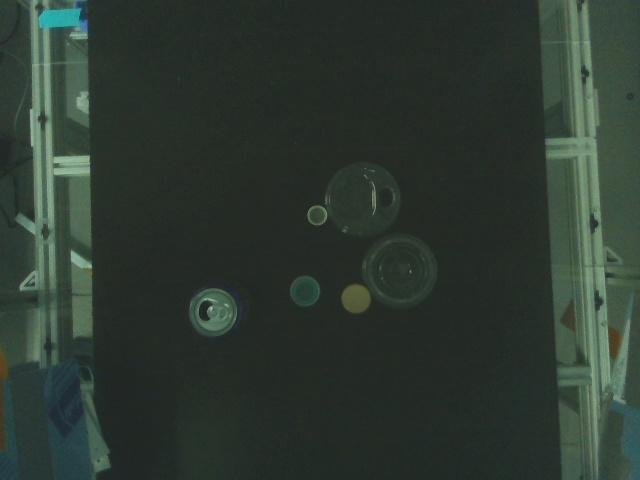metal: (183, 275, 258, 344)
plastic: (321, 156, 406, 242), (359, 228, 442, 313), (288, 273, 322, 309), (339, 281, 373, 316), (305, 201, 330, 229)
